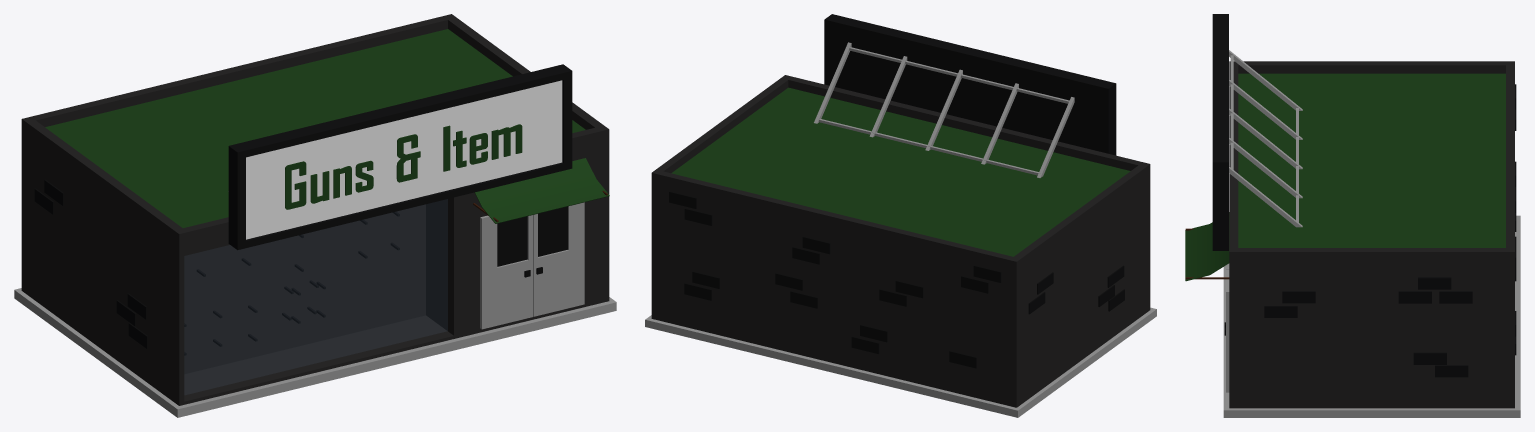
File: Building_Shop_GunsAndItem.FBX
3 renders of one model, left to right at view 1: azimuth 30°, elevation 25°; view 2: azimuth 150°, elevation 25°; view 3: azimuth 270°, elevation 25°, orthographic. The views are drawn at different scales.
Visible parts, largest first — view 1: Box004; view 2: Box004; view 3: Box004.
Part boxes in pixels (left/top/right/bottom): Box004: left=14, top=14, right=616, bottom=417; Box004: left=645, top=14, right=1156, bottom=417; Box004: left=1185, top=14, right=1520, bottom=417.
Bounding box in the file's own units: 6.82 × 3.81 × 4.96.
